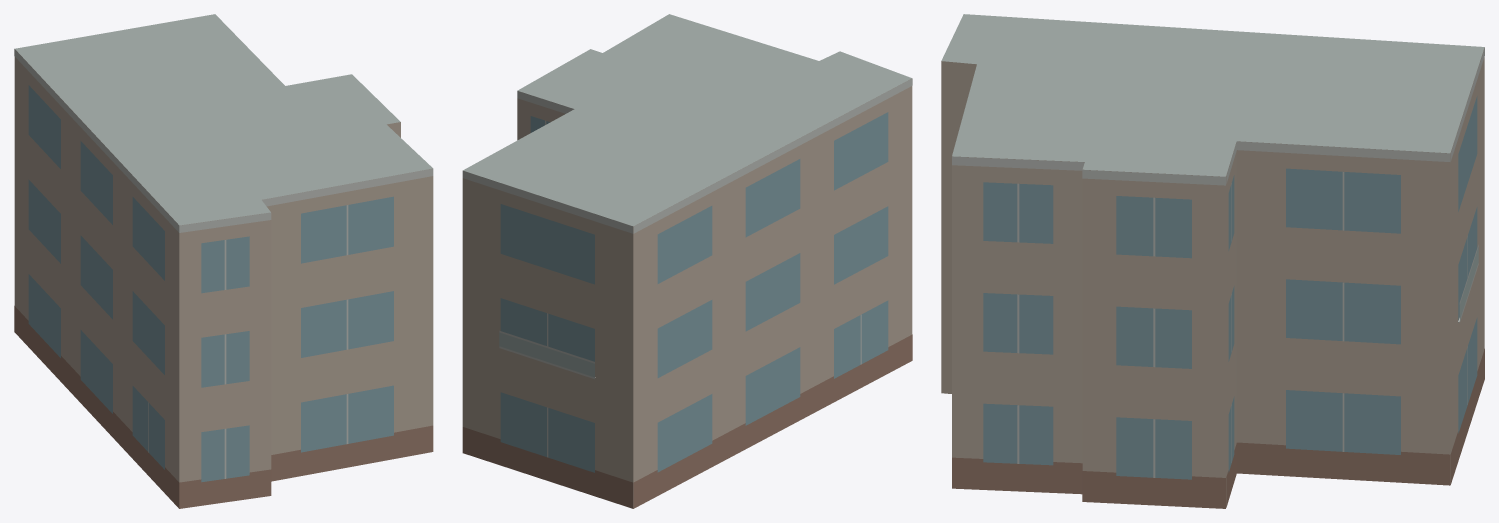
Rendered from survey-upis-32678959.glb.
3 views of the same model, side by side, from view 1: azimuth 30°, elevation 25°; view 2: azimuth 150°, elevation 25°; view 3: azimuth 270°, elevation 25° (orthographic). The views are drawn at different scales.
Visible parts, largest first — view 1: survey-upis-32678959.tmp; view 2: survey-upis-32678959.tmp; view 3: survey-upis-32678959.tmp.
Boxes of the visible parts, x1,y1,x2,y2 form: survey-upis-32678959.tmp: (14, 14, 433, 508); survey-upis-32678959.tmp: (462, 14, 912, 508); survey-upis-32678959.tmp: (941, 14, 1484, 508).
Size of the model in its own units: 9.62 by 9.15 by 13.58.
